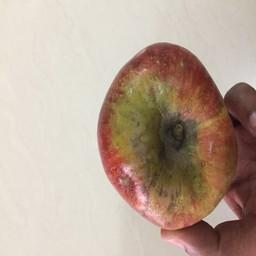Bad_apple: (95, 37, 236, 239)
